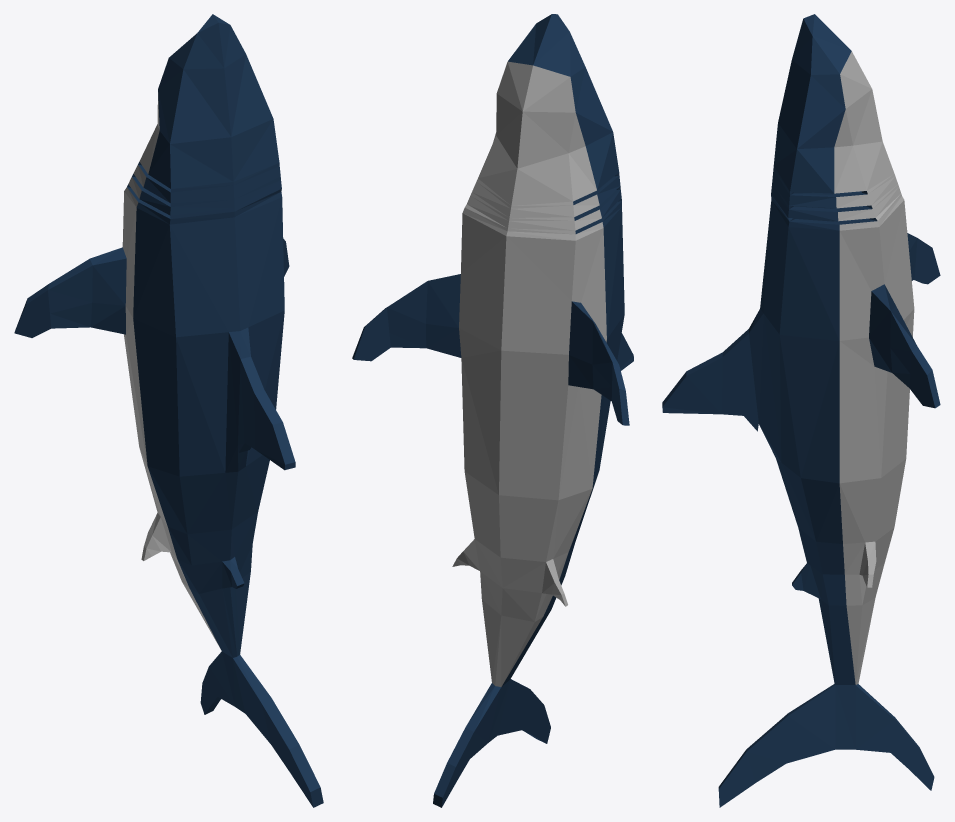
Rendered from Shark.obj.
The picture shows the model from 3 angles, left to right: view 1: azimuth 30°, elevation 25°; view 2: azimuth 150°, elevation 25°; view 3: azimuth 270°, elevation 25°; orthographic projection.
Parts seen in each view (by area): view 1: Shark_Cylinder; view 2: Shark_Cylinder; view 3: Shark_Cylinder.
Part boxes in pixels (box(x1,y1,x2,y2)): Shark_Cylinder: box(14, 14, 323, 807); Shark_Cylinder: box(352, 14, 633, 807); Shark_Cylinder: box(662, 14, 940, 807).
Size of the model in its own units: 5.88 by 15.77 by 5.19.
